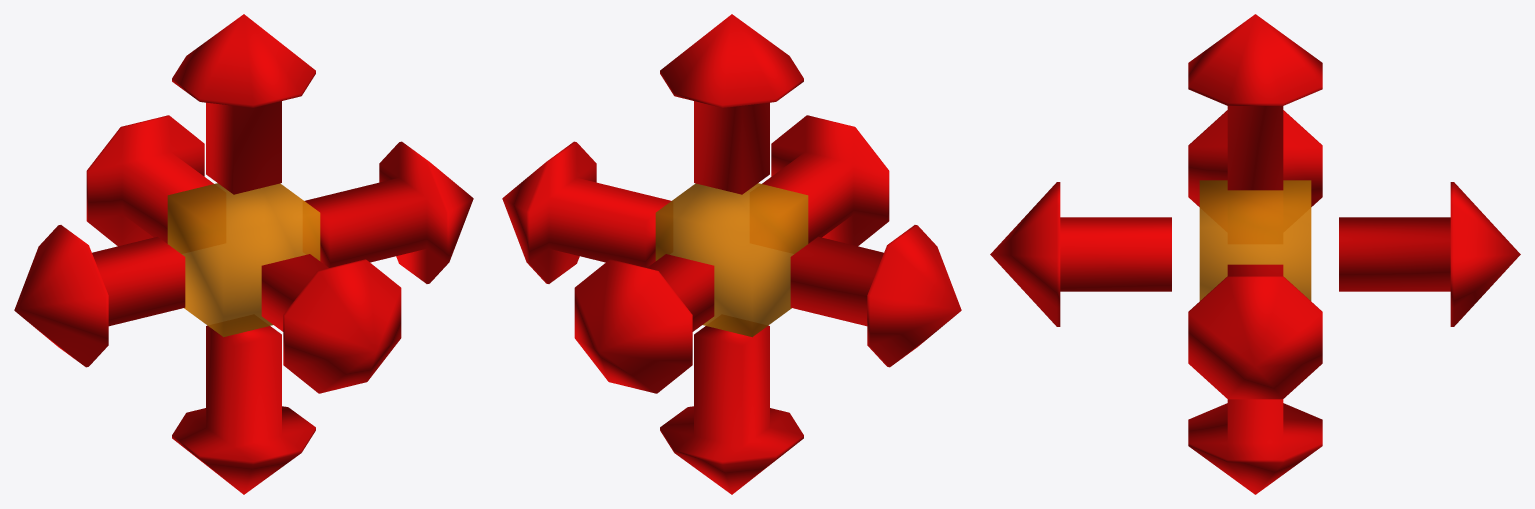
The model's file is ShapeDrop_FinalAssets-GrowPowerUp-Final-Optimized.fbx.
The picture shows the model from 3 angles, left to right: view 1: azimuth 30°, elevation 25°; view 2: azimuth 150°, elevation 25°; view 3: azimuth 270°, elevation 25°; orthographic projection.
Visible parts, largest first — view 1: GrowCube, GrowArrow.002, GrowArrow, GrowArrow.005, GrowArrow.003, GrowArrow.004, GrowArrow.001; view 2: GrowCube, GrowArrow.001, GrowArrow, GrowArrow.005, GrowArrow.003, GrowArrow.004, GrowArrow.002; view 3: GrowArrow.004, GrowArrow.002, GrowArrow.001, GrowArrow.005, GrowCube, GrowArrow.003, GrowArrow.
Boxes of the visible parts, x1,y1,x2,y2 form: GrowCube: [167, 183, 320, 337]; GrowArrow.002: [261, 254, 401, 393]; GrowArrow: [14, 225, 185, 367]; GrowArrow.005: [172, 14, 315, 194]; GrowArrow.003: [172, 325, 315, 494]; GrowArrow.004: [304, 141, 473, 283]; GrowArrow.001: [86, 115, 213, 246]; GrowCube: [655, 183, 808, 337]; GrowArrow.001: [574, 254, 714, 393]; GrowArrow: [790, 225, 961, 367]; GrowArrow.005: [660, 14, 803, 194]; GrowArrow.003: [660, 325, 803, 494]; GrowArrow.004: [502, 141, 671, 283]; GrowArrow.002: [762, 115, 889, 246]; GrowArrow.004: [1188, 264, 1322, 399]; GrowArrow.002: [990, 182, 1171, 326]; GrowArrow.001: [1339, 182, 1520, 326]; GrowArrow.005: [1188, 14, 1322, 190]; GrowCube: [1199, 180, 1311, 300]; GrowArrow.003: [1188, 399, 1322, 494]; GrowArrow: [1188, 110, 1322, 206].
Bounding box in the file's own units: 95.16 × 95.16 × 95.16.
